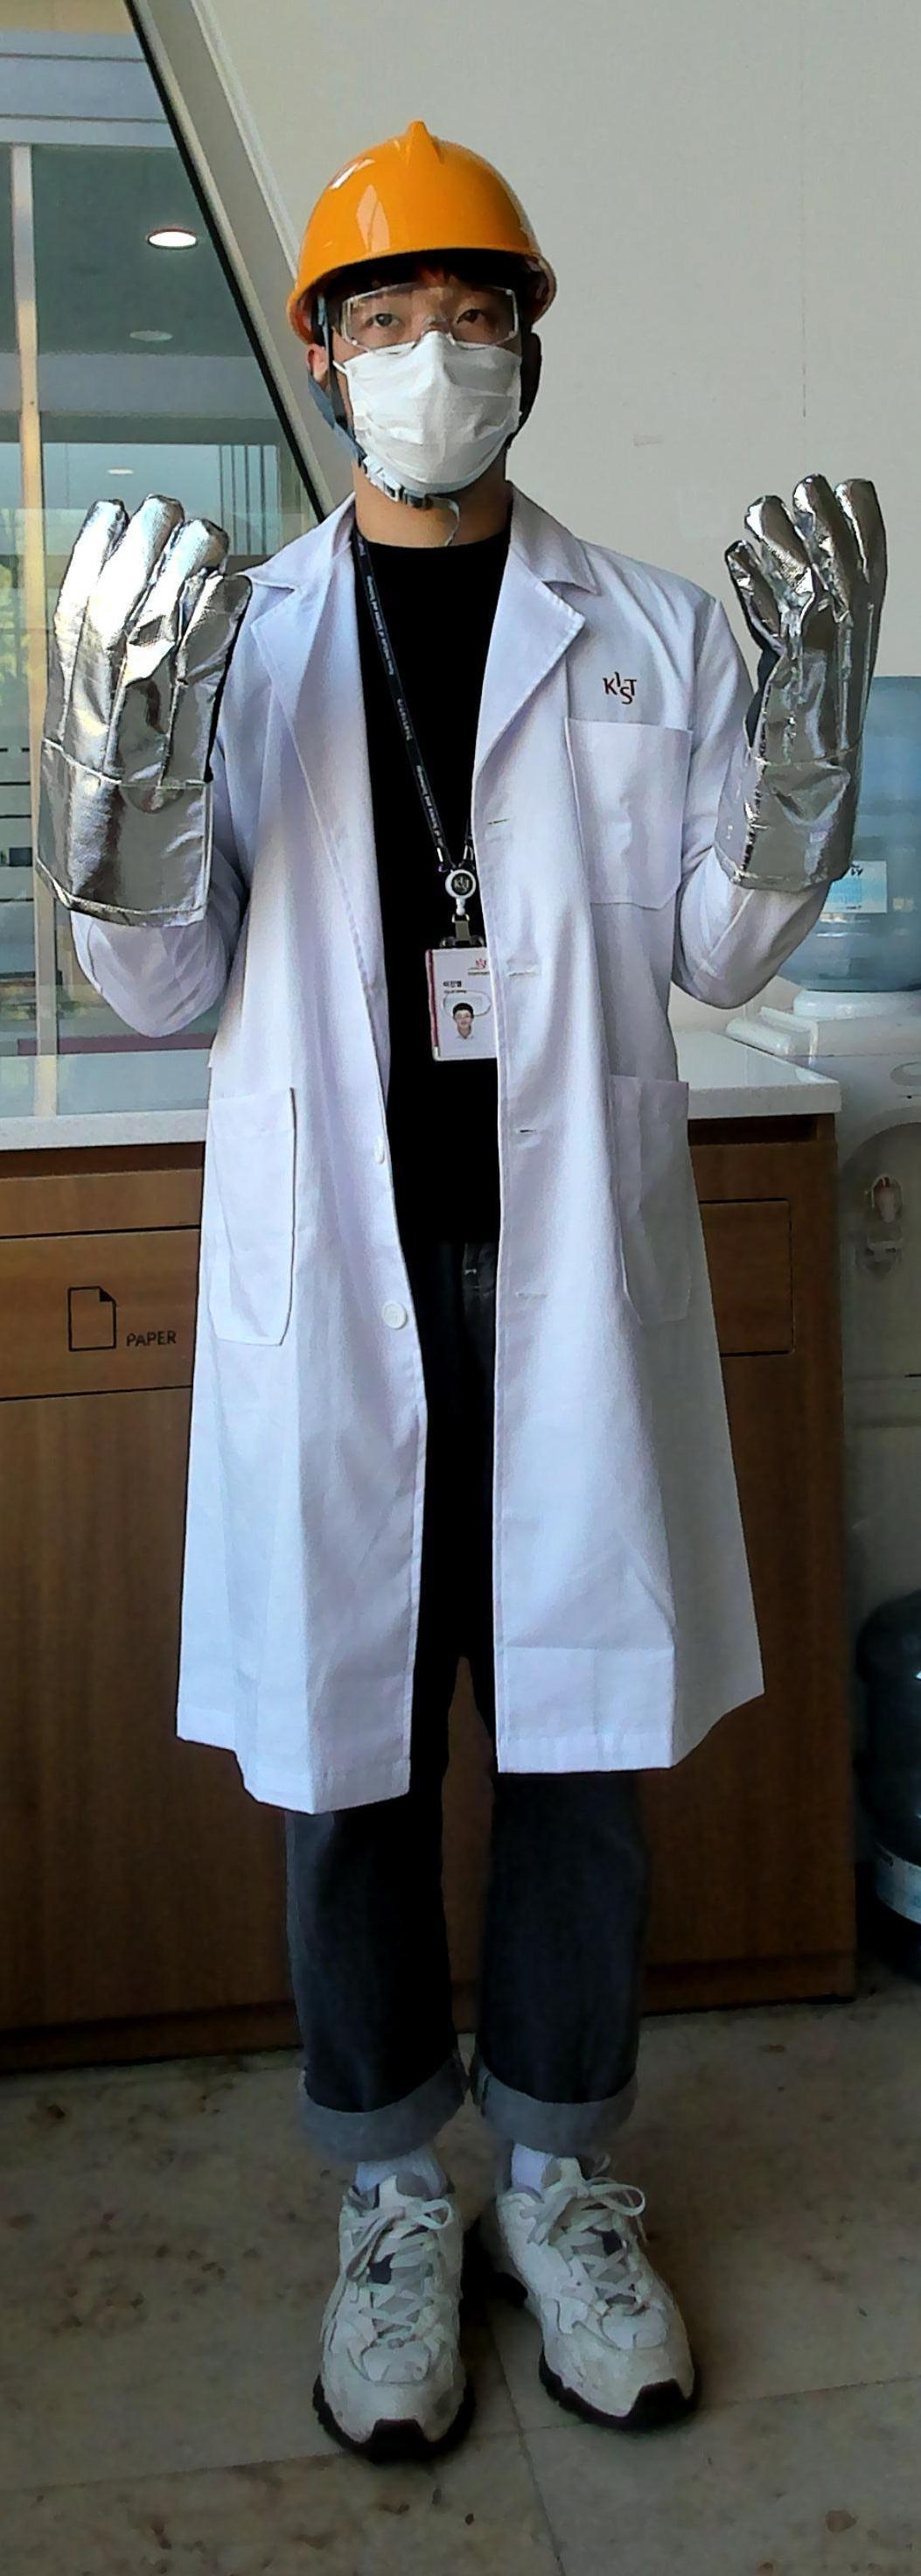lab_coat: (233, 532, 699, 1740)
